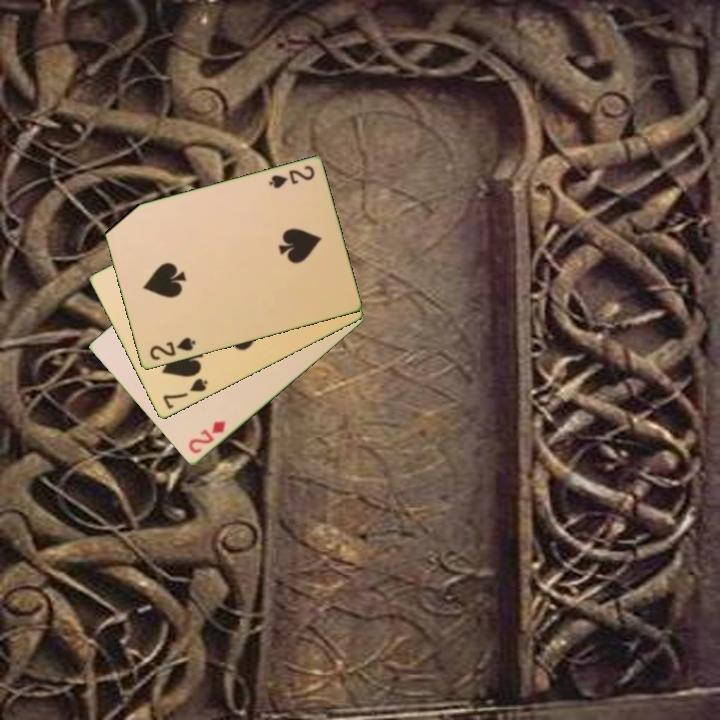2d: (185, 417, 229, 457)
2s: (146, 334, 198, 364), (265, 162, 317, 192)
7s: (159, 375, 211, 412)
